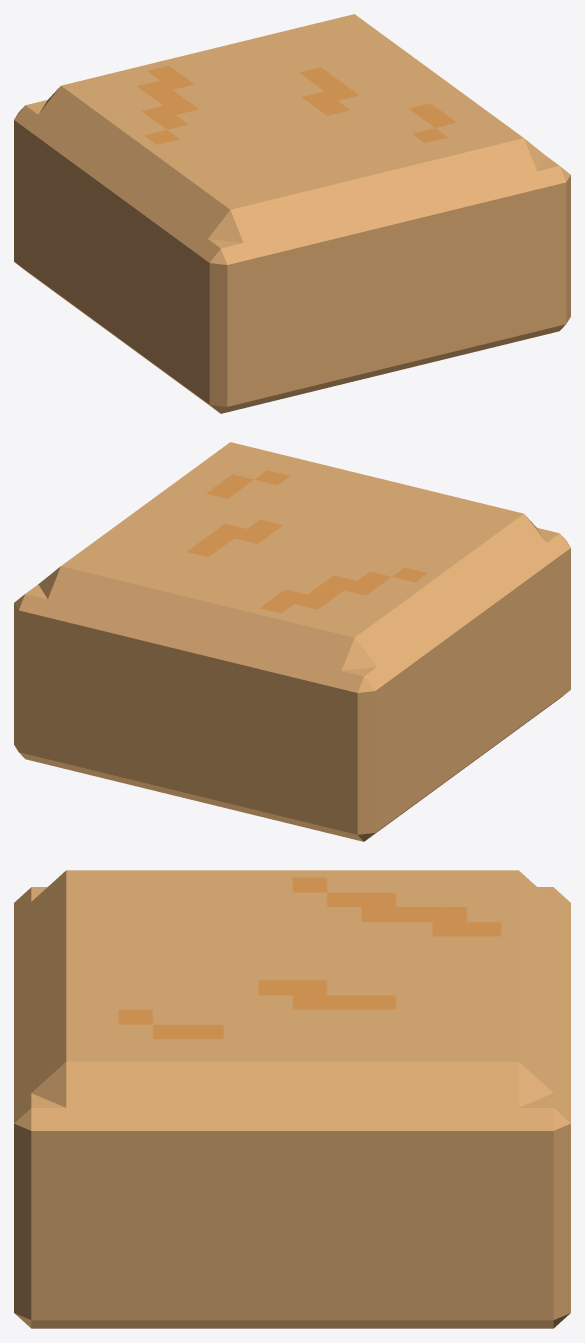
3 renders of one model, top to bottom at view 1: azimuth 30°, elevation 25°; view 2: azimuth 150°, elevation 25°; view 3: azimuth 270°, elevation 25°, orthographic. The views are drawn at different scales.
Parts seen in each view (by area): view 1: Sand3; view 2: Sand3; view 3: Sand3.
Part boxes in pixels (bbox=[...]): Sand3: bbox=[14, 14, 570, 413]; Sand3: bbox=[14, 442, 570, 841]; Sand3: bbox=[14, 870, 570, 1328].
Size of the model in its own units: 352 by 176 by 352.
1 material, 1 textured.
